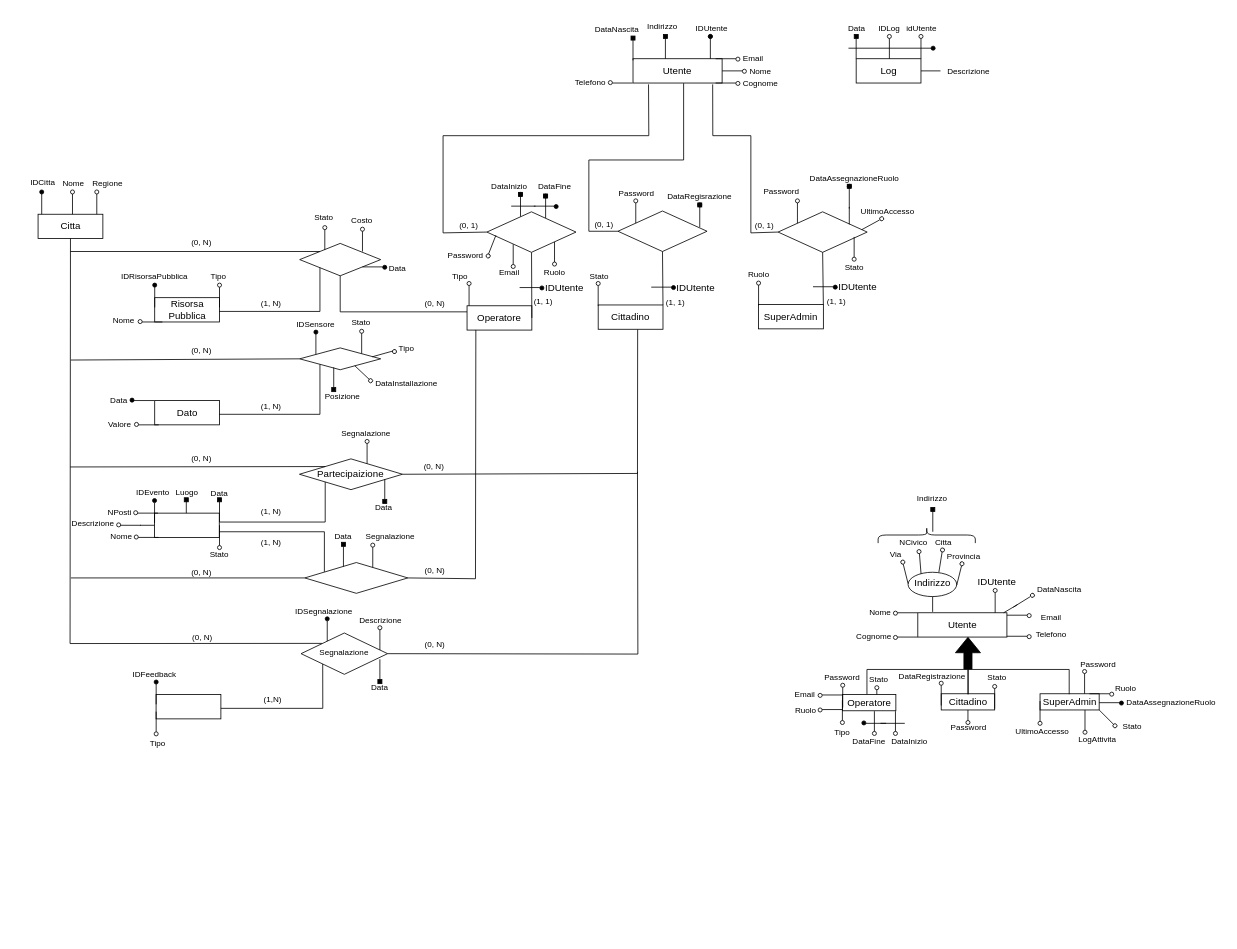
Some shapes in this 1237 by 949 pixel diagram are drawn without their labels. Here are the shapes that lost their labels. From the top down, the centre of each, then its label:
point 531,231: Professione
point 662,231: Registrazione
point 822,231: Controllo
point 340,259: Spesa Pubblica
point 340,358: Sensore
point 186,524: Evento
point 356,577: Creazione
point 188,706: Feedback
